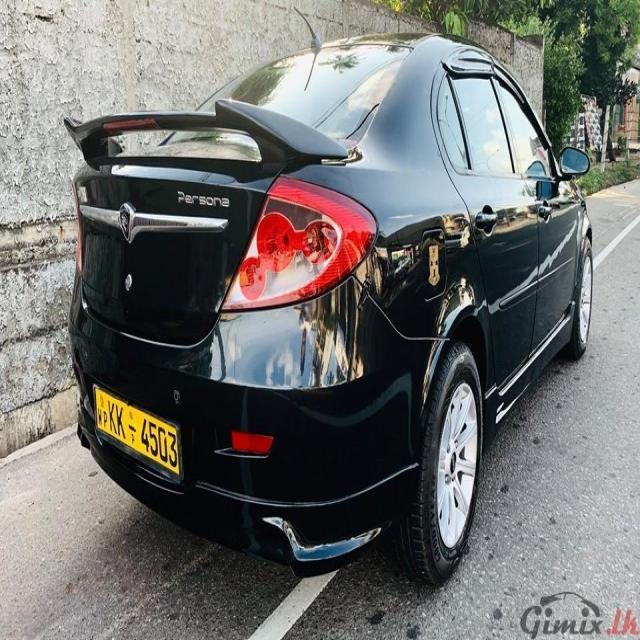license-plate: (94, 386, 178, 476)
